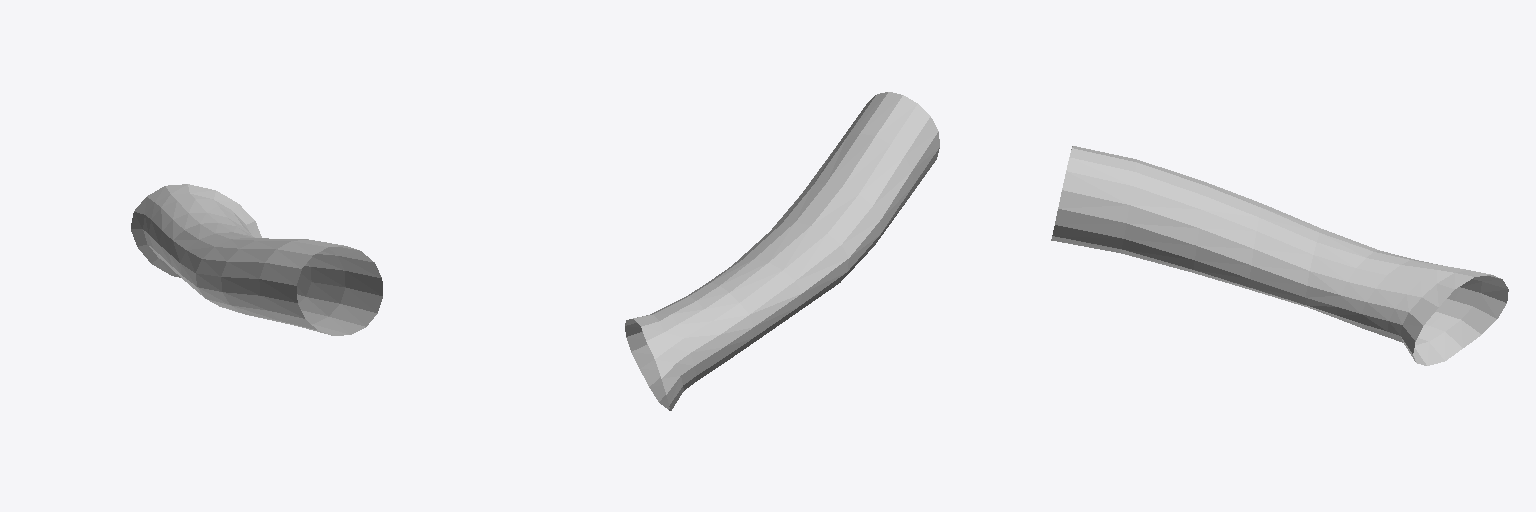
The model's file is esophagus.nissen.obj.
The picture shows the model from 3 angles: view 1: azimuth 30°, elevation 25°; view 2: azimuth 150°, elevation 25°; view 3: azimuth 270°, elevation 25°; orthographic projection.
Parts seen in each view (by area): view 1: esophagus.nissen_esophagus.004; view 2: esophagus.nissen_esophagus.004; view 3: esophagus.nissen_esophagus.004.
Part boxes in pixels (x1,y1,x2,y2): esophagus.nissen_esophagus.004: (131,184,382,335); esophagus.nissen_esophagus.004: (625,92,939,410); esophagus.nissen_esophagus.004: (1051,146,1508,365).
Size of the model in its own units: 1.9 by 2.27 by 5.08.